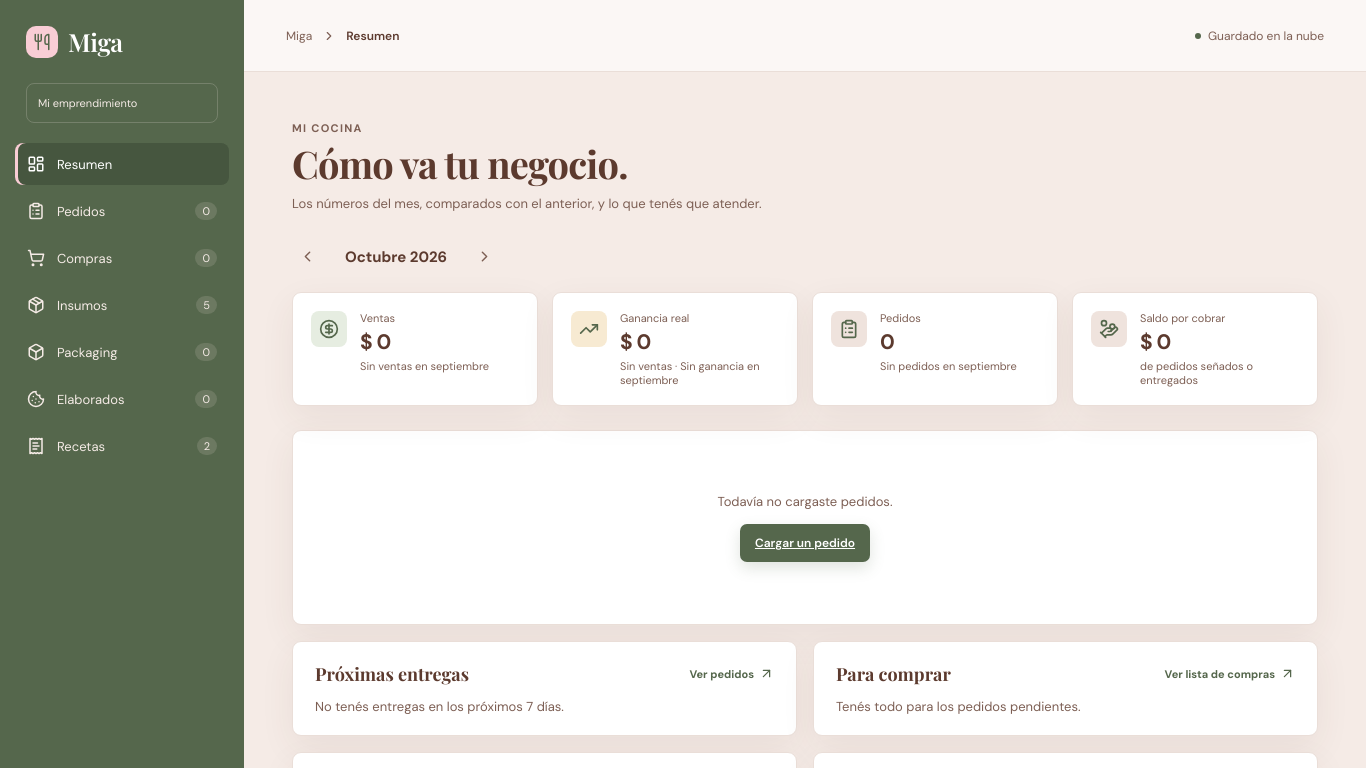
Test: Dashboard navigation › opens the orders from a shortcut
The width and height of the screenshot is (1366, 768).
Click the link "Ver pedidos".
click(732, 674)  # box x1=689 y1=662 x2=774 y2=685
(page scrolled)
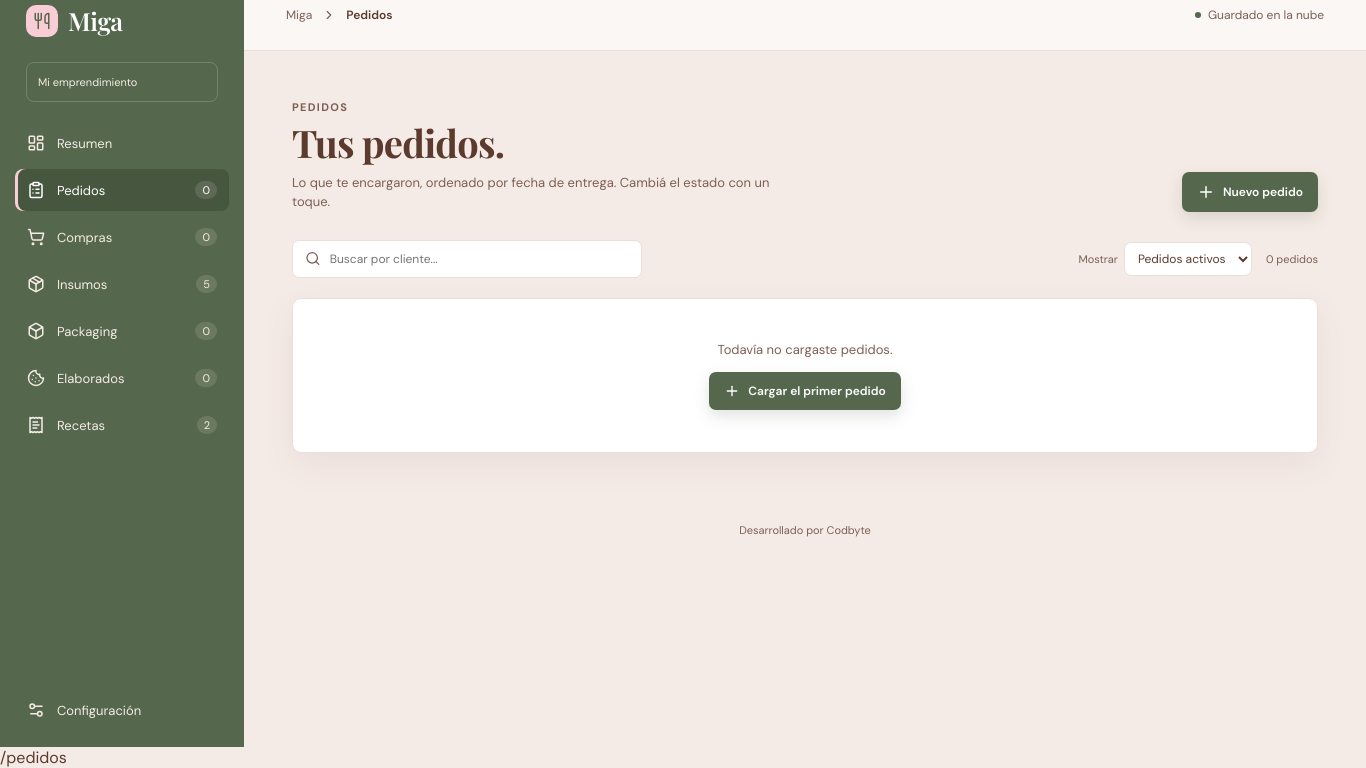
Now the text with test id "current-path" reads "/pedidos", box x1=0 y1=747 x2=67 y2=767
